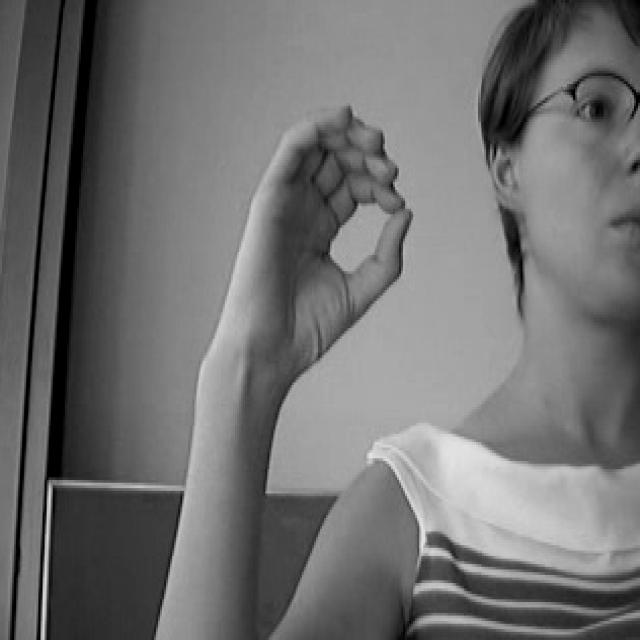O: (233, 100, 422, 372)
